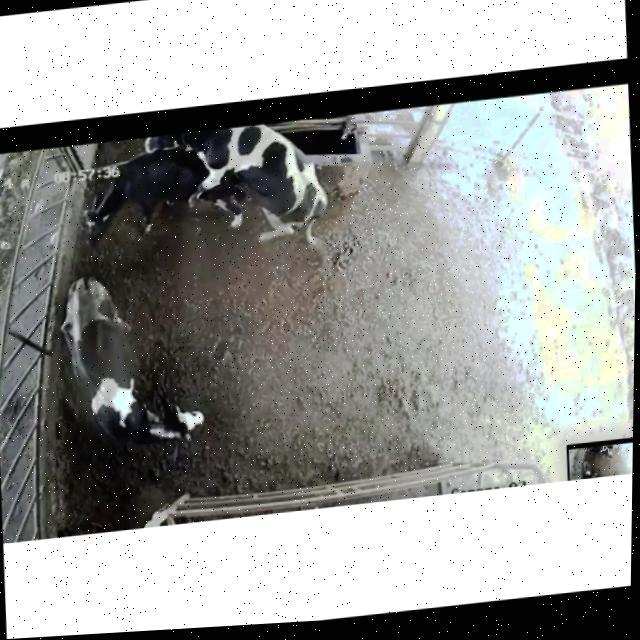lay: (57, 251, 223, 470)
ride: (143, 115, 343, 265)
stand: (73, 140, 251, 258)
